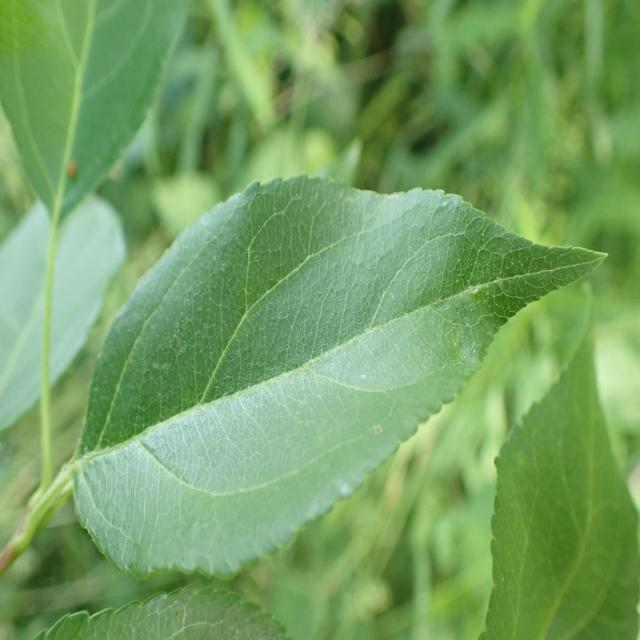healthy: (73, 176, 609, 581), (477, 309, 640, 640), (0, 0, 187, 217), (31, 584, 291, 640)
